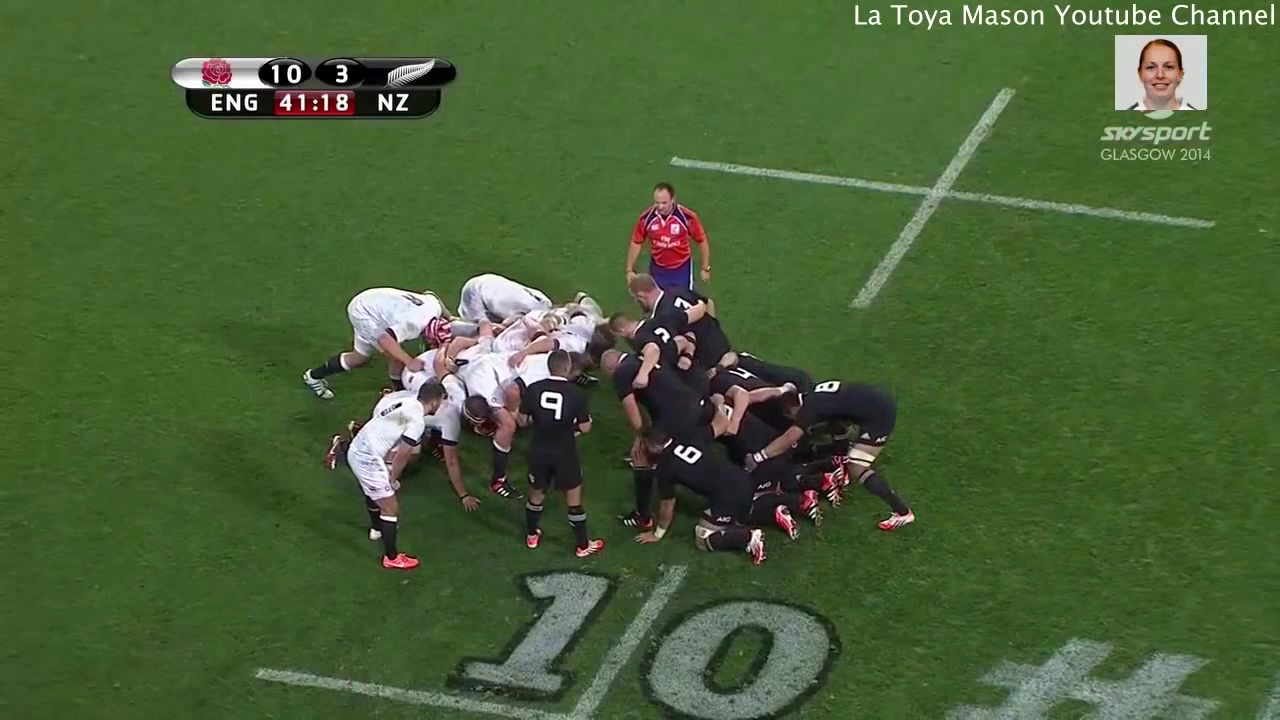player: (763, 368, 918, 539), (626, 411, 794, 567), (507, 345, 608, 565), (338, 375, 446, 579), (292, 278, 447, 403), (620, 175, 719, 300), (596, 347, 715, 441), (622, 268, 735, 357), (449, 267, 551, 330)
scrum: (292, 273, 954, 576)
